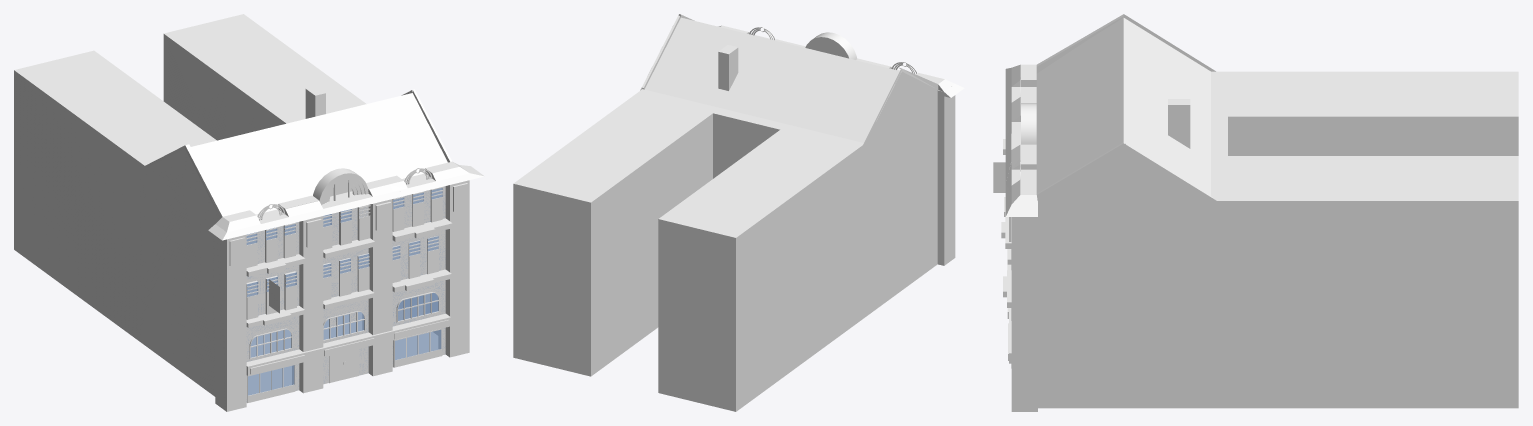
Rendered from hotel.glb.
3 views of the same model, side by side, from view 1: azimuth 30°, elevation 25°; view 2: azimuth 150°, elevation 25°; view 3: azimuth 270°, elevation 25° (orthographic). The views are drawn at different scales.
Visible parts, largest first — view 1: SketchUp.003, SketchUp.004, SketchUp.076, SketchUp.270, SketchUp.002, SketchUp.047, SketchUp.006, SketchUp.042, SketchUp.038, SketchUp.181, SketchUp.040, SketchUp (+3 smaller); view 2: SketchUp.003, SketchUp.057, SketchUp.004, SketchUp, SketchUp.005, SketchUp.038; view 3: SketchUp.003, SketchUp.076, SketchUp.057, SketchUp.004, SketchUp.042, SketchUp, SketchUp.006, SketchUp.043, SketchUp.047, SketchUp.038, SketchUp.056.
Boxes of the visible parts, x1,y1,x2,y2 form: SketchUp.003: (14, 14, 452, 396); SketchUp.004: (215, 180, 469, 411); SketchUp.076: (191, 93, 447, 215); SketchUp.270: (246, 186, 445, 402); SketchUp.002: (247, 90, 442, 403); SketchUp.047: (247, 191, 422, 227); SketchUp.006: (313, 168, 372, 205); SketchUp.042: (393, 161, 484, 191); SketchUp.038: (208, 210, 275, 240); SketchUp.181: (329, 349, 358, 382); SketchUp.040: (278, 195, 322, 217); SketchUp: (305, 86, 325, 118); SketchUp.003: (513, 14, 937, 411); SketchUp.057: (644, 17, 897, 142); SketchUp.004: (937, 90, 955, 265); SketchUp: (718, 45, 738, 90); SketchUp.005: (805, 37, 848, 58); SketchUp.038: (916, 73, 964, 97); SketchUp.003: (1036, 18, 1518, 408); SketchUp.076: (1036, 18, 1123, 193); SketchUp.057: (1123, 20, 1210, 195); SketchUp.004: (1001, 139, 1037, 411); SketchUp.042: (1005, 163, 1037, 216); SketchUp: (1168, 99, 1190, 148); SketchUp.006: (1012, 103, 1036, 144); SketchUp.043: (1011, 144, 1036, 169); SketchUp.047: (1005, 79, 1011, 181); SketchUp.038: (1005, 64, 1036, 98); SketchUp.056: (1036, 14, 1123, 73).
Size of the model in its own units: 3.11 by 2.6 by 4.67.
